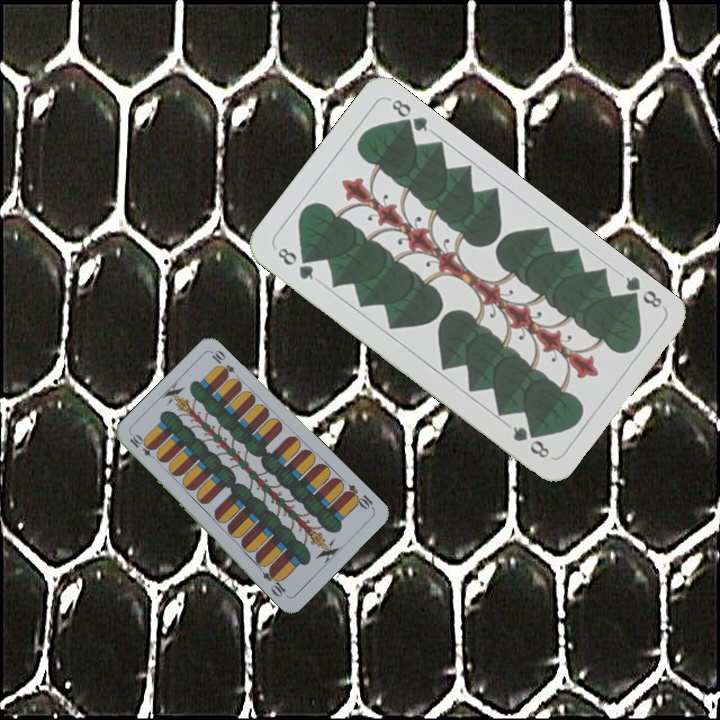E10: (340, 480, 377, 512), (126, 431, 161, 464)
G8: (619, 272, 665, 311), (273, 243, 317, 283)
